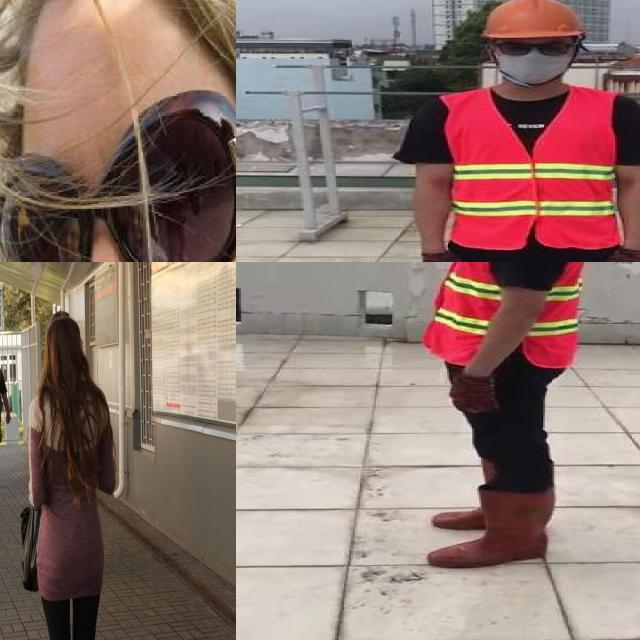boots: (429, 492, 554, 570), (424, 458, 524, 530)
face_mask: (494, 37, 574, 84)
face_nomask: (0, 84, 236, 262)
glasses: (0, 89, 236, 262), (492, 36, 574, 61)
hand_glove: (449, 373, 499, 412), (419, 249, 476, 262), (601, 249, 640, 262)
head_helmet: (476, 0, 588, 43)
person: (395, 262, 603, 586), (392, 0, 640, 262)
vest: (441, 86, 619, 251), (426, 262, 520, 367), (520, 262, 577, 368)
